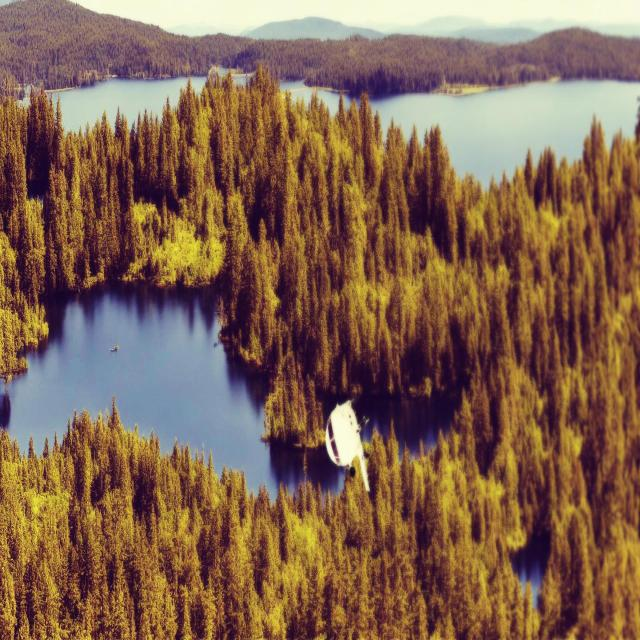airplane: (325, 398, 370, 492)
